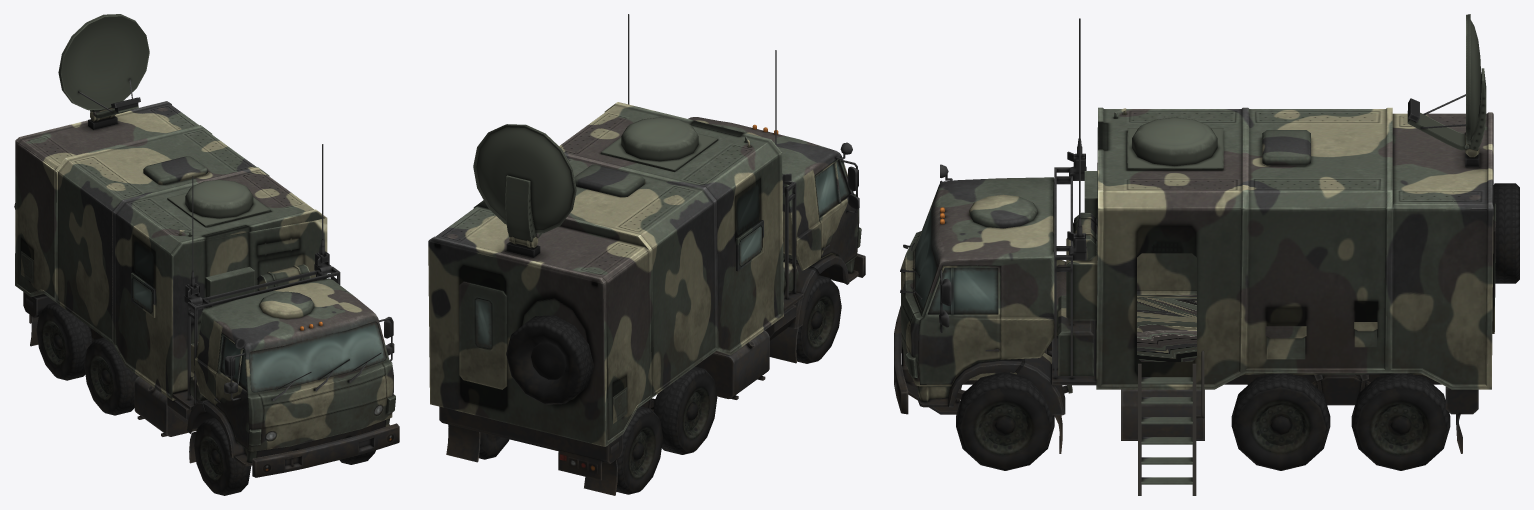
File: Comms Truck.fbx
3 views of the same model, side by side, from view 1: azimuth 30°, elevation 25°; view 2: azimuth 150°, elevation 25°; view 3: azimuth 270°, elevation 25° (orthographic). The views are drawn at different scales.
Visible parts, largest first — view 1: Truck_with_antenna_wheel2_1; view 2: Truck_with_antenna_wheel2_1; view 3: Truck_with_antenna_wheel2_1.
Part boxes in pixels (x1,y1,x2,y2): Truck_with_antenna_wheel2_1: (14, 14, 399, 495); Truck_with_antenna_wheel2_1: (428, 14, 865, 495); Truck_with_antenna_wheel2_1: (894, 14, 1519, 495).
Size of the model in its own units: 324 by 512 by 710.
